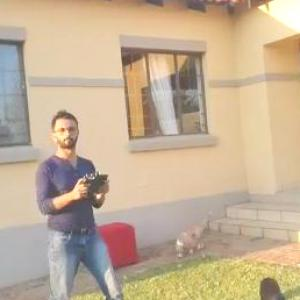follow: (28, 102, 132, 299)
null: (168, 207, 216, 260), (258, 273, 298, 299)
